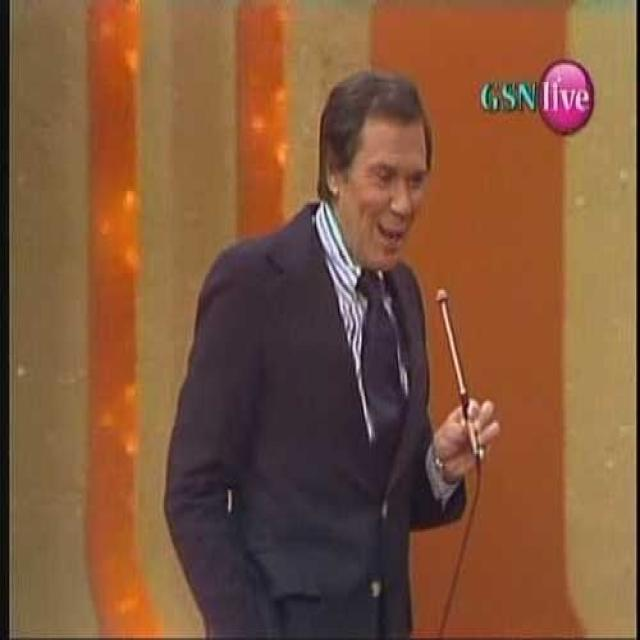microphone: (432, 291, 484, 469)
